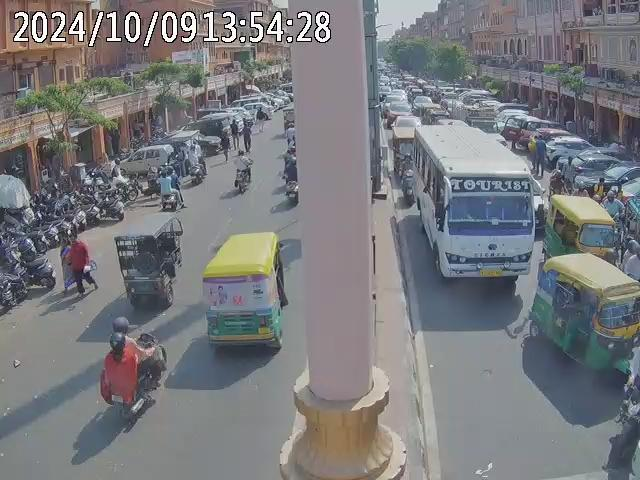auto: (527, 251, 639, 377), (199, 229, 290, 358), (113, 214, 183, 312), (551, 194, 621, 266), (421, 106, 442, 125)
bus: (405, 120, 538, 293)
car: (118, 142, 176, 175), (389, 114, 422, 144), (494, 108, 530, 133), (458, 90, 496, 107), (382, 92, 409, 109)
helmet: (110, 317, 131, 335), (404, 152, 412, 164)
license_plate: (478, 269, 506, 278)
motorbike-rider: (96, 317, 168, 431), (233, 152, 253, 194)
person: (66, 233, 100, 298), (58, 237, 82, 291), (157, 166, 184, 211), (240, 118, 253, 151)
scooty-rider: (0, 226, 55, 287), (90, 187, 126, 222), (280, 148, 298, 205), (400, 152, 418, 206)
